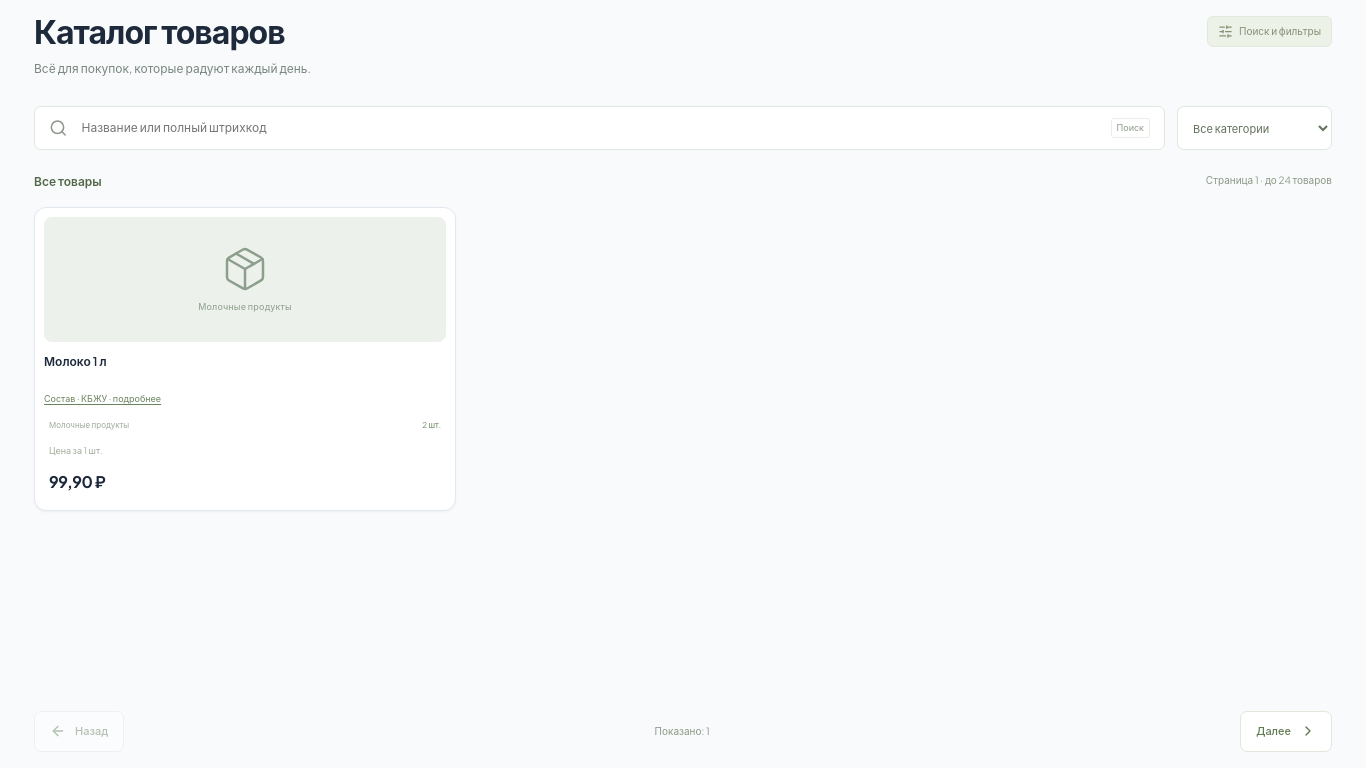
Test case: catalog contract › uses cursor pagination instead of requesting the entire catalog
(page scrolled)
Expected: the heading "Молоко 1 л" is shown, [44,354,107,369]
Click the button "Далее": (1286, 731) [1240,711,1332,752]
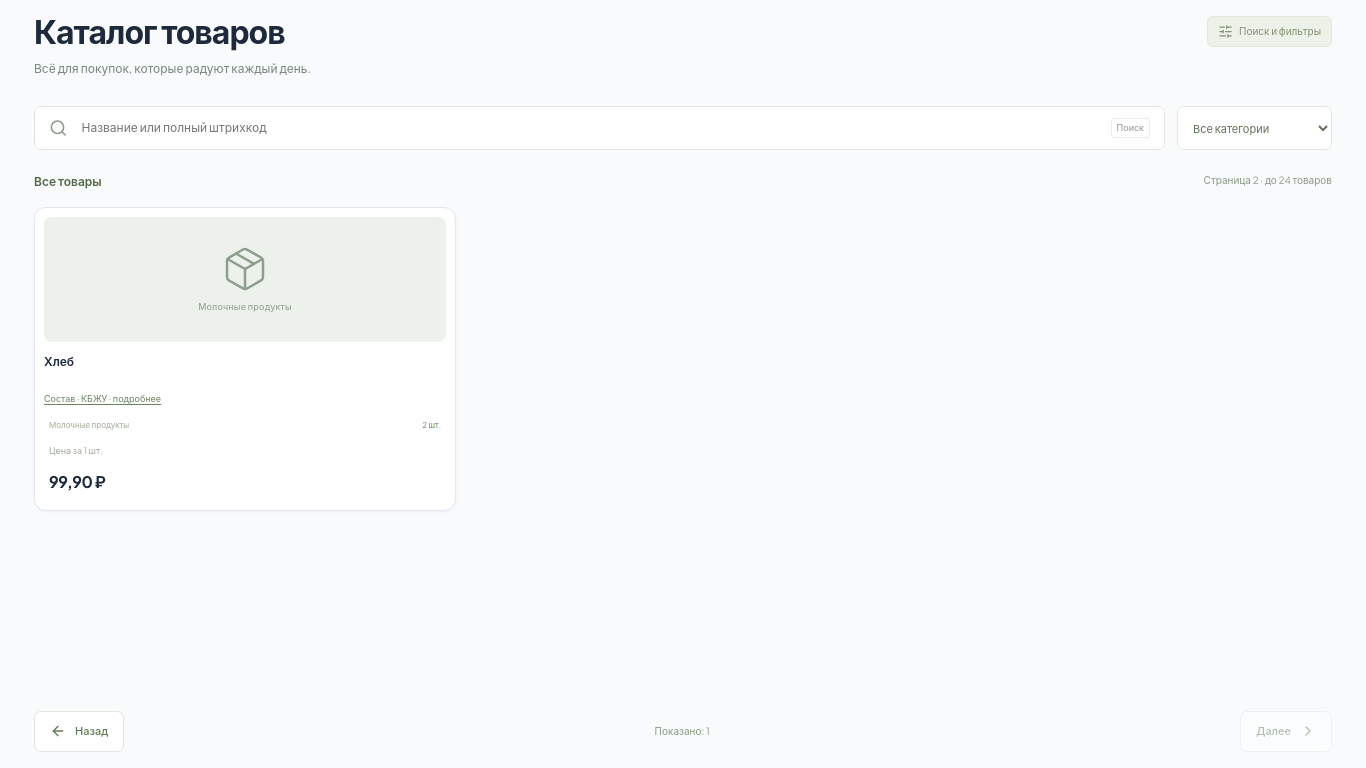
Now the heading "Хлеб" is shown, box [44,354,74,369]
Now the button "Молоко 1 л" is gone
